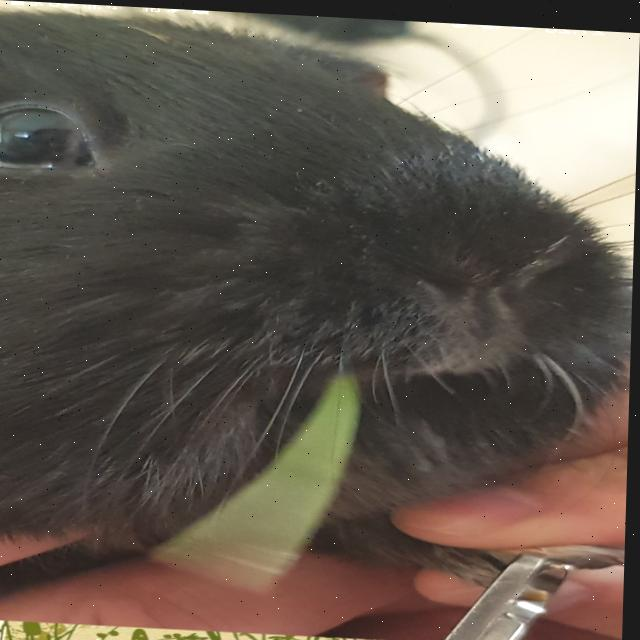guinea pig: (0, 8, 637, 587)
